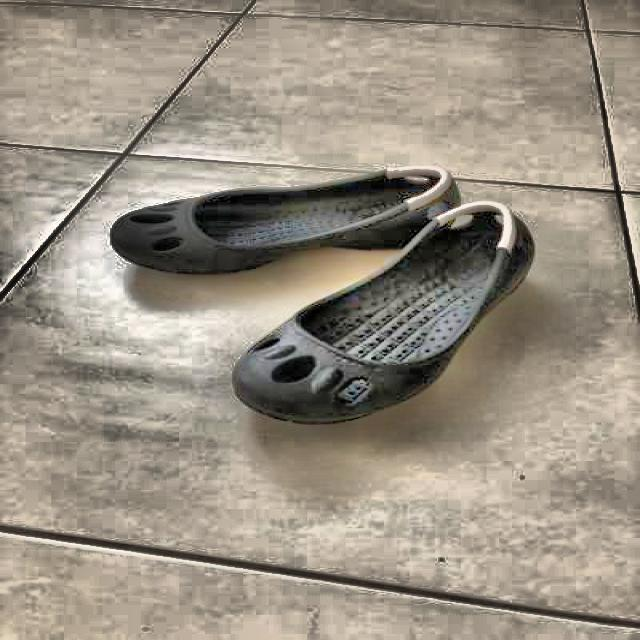shoes: (95, 161, 538, 435)
